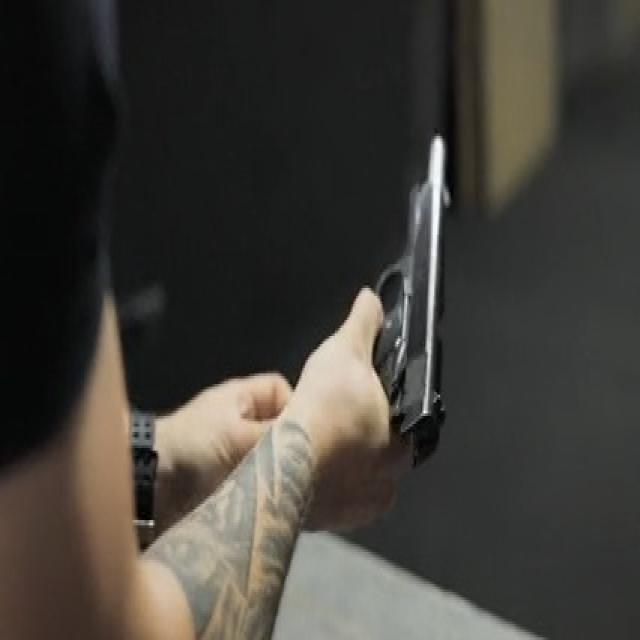Gun_Holder: (296, 127, 502, 495)
